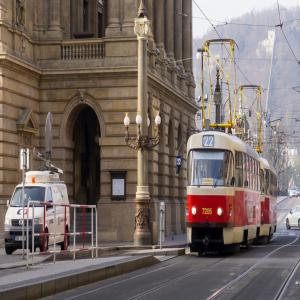Vehicle-registration-plate: (15, 236, 27, 244)
